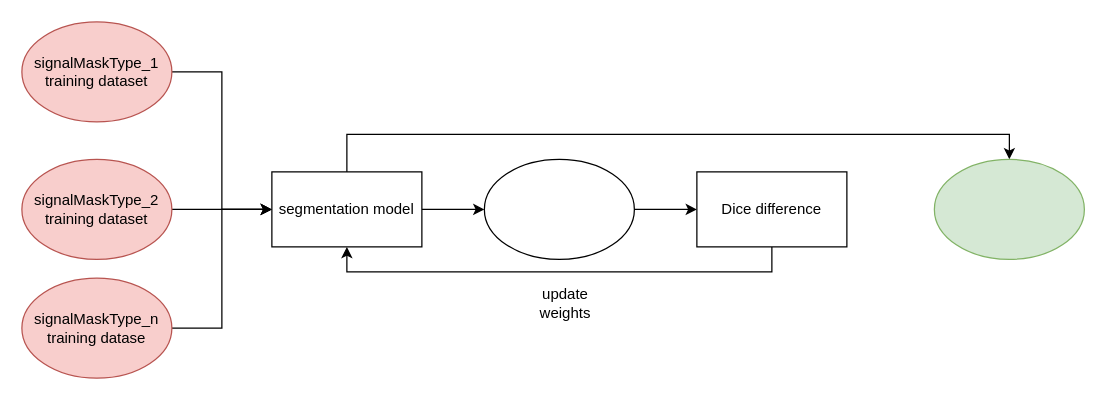
This 1106x400 diagram has some shape labels left out. The centre of each missing label's shape, as x and y in pixels:
best init model: (1008,208)
image after segmentation: (558,208)
